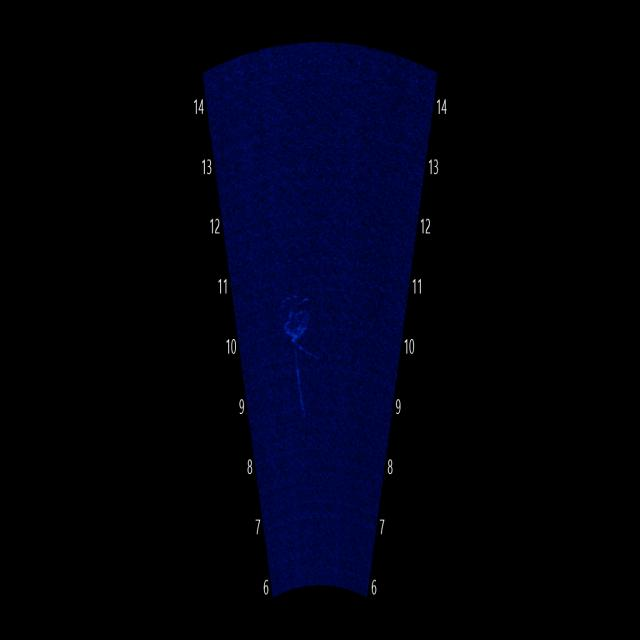circle: (273, 277, 315, 348)
